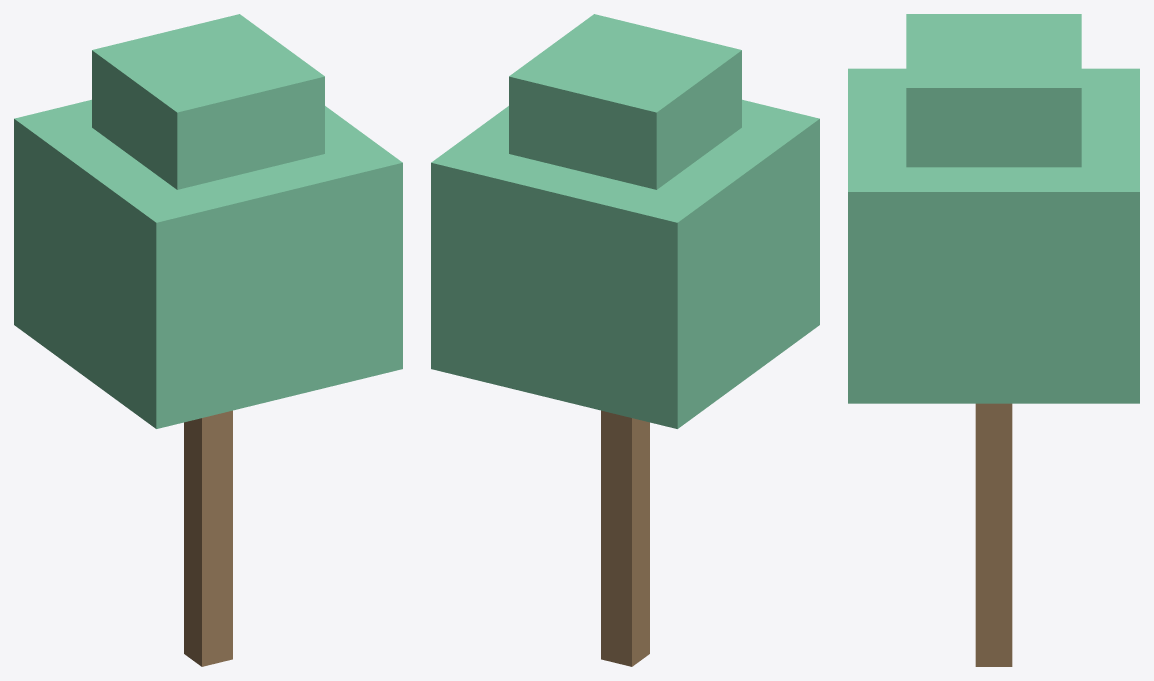
File: Prop_DS_Tree_11.glb
3 renders of one model, left to right at view 1: azimuth 30°, elevation 25°; view 2: azimuth 150°, elevation 25°; view 3: azimuth 270°, elevation 25°, orthographic. The views are drawn at different scales.
Parts seen in each view (by area): view 1: Cube.001, Cube.002, Cube; view 2: Cube.001, Cube.002, Cube; view 3: Cube.001, Cube.002, Cube.
Part boxes in pixels (x1,y1,x2,y2): Cube.001: [14, 99, 402, 428]; Cube.002: [92, 14, 324, 189]; Cube: [184, 410, 232, 666]; Cube.001: [431, 99, 819, 428]; Cube.002: [509, 14, 741, 189]; Cube: [601, 410, 649, 666]; Cube.001: [848, 68, 1139, 403]; Cube.002: [906, 14, 1081, 167]; Cube: [975, 403, 1012, 666].
Size of the model in its own units: 2.38 by 5.46 by 2.38.
